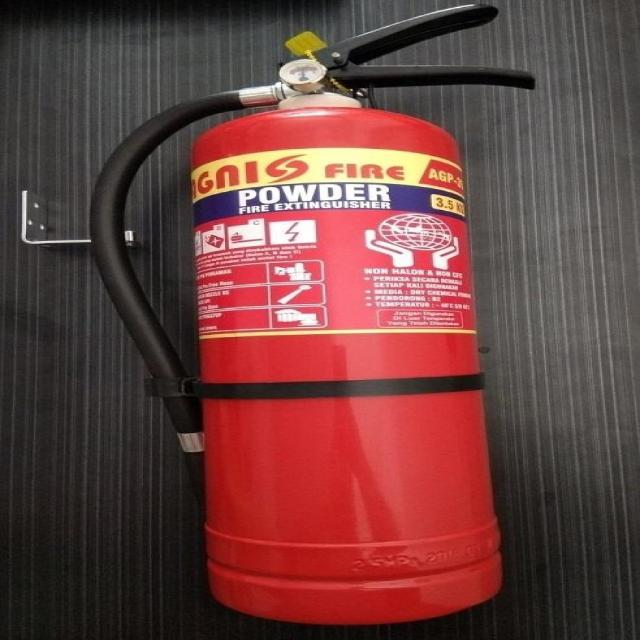fire_extinguisher: (78, 1, 540, 628)
